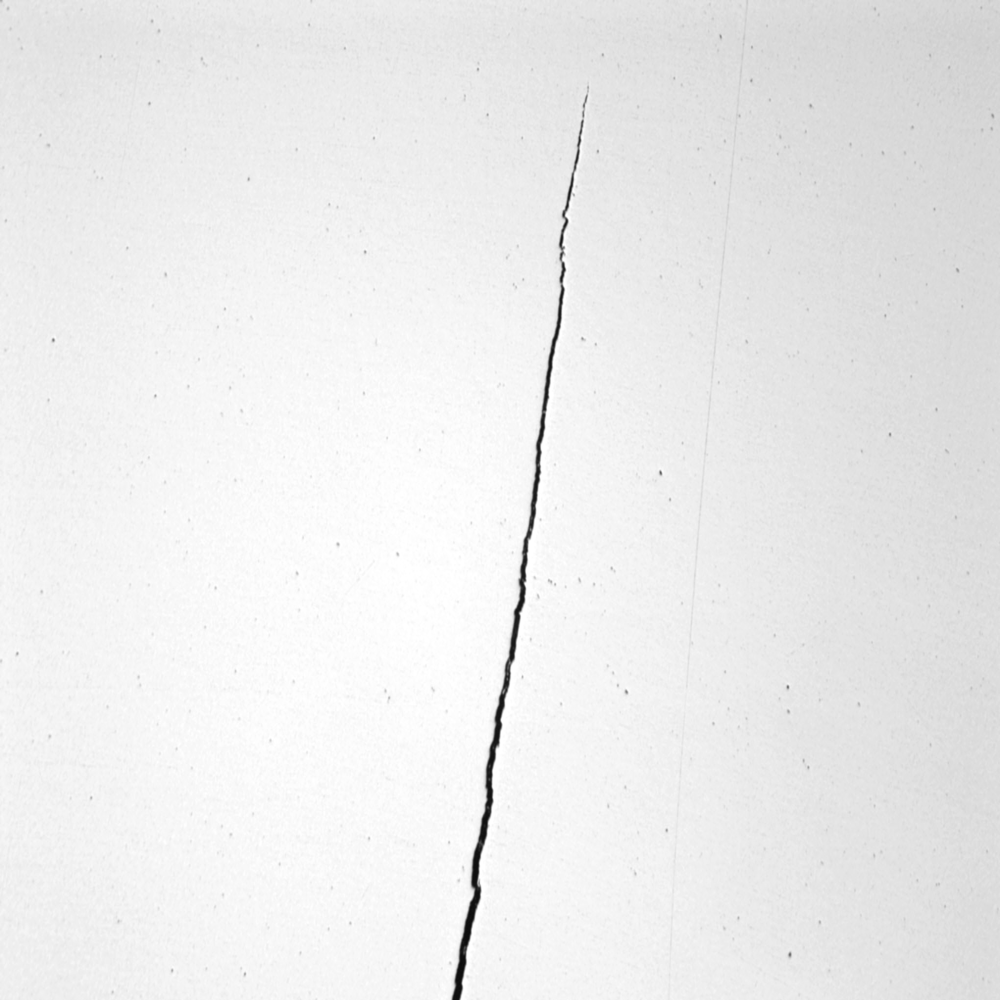crack: (415, 62, 629, 993)
